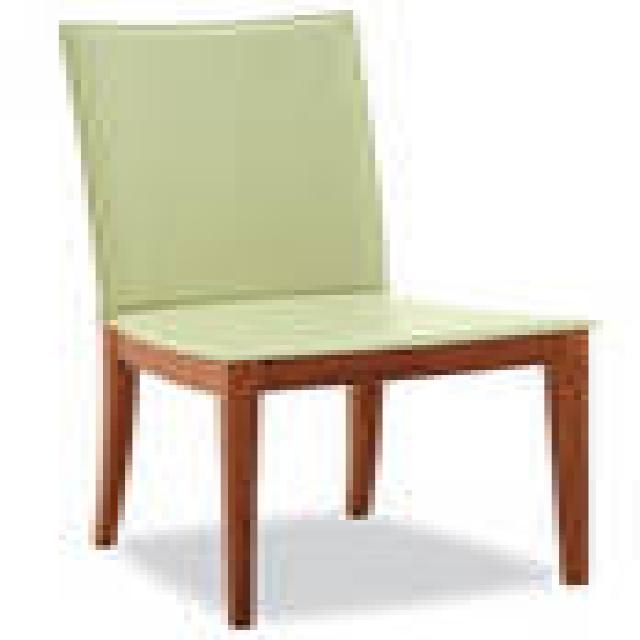chair: (54, 6, 600, 632)
